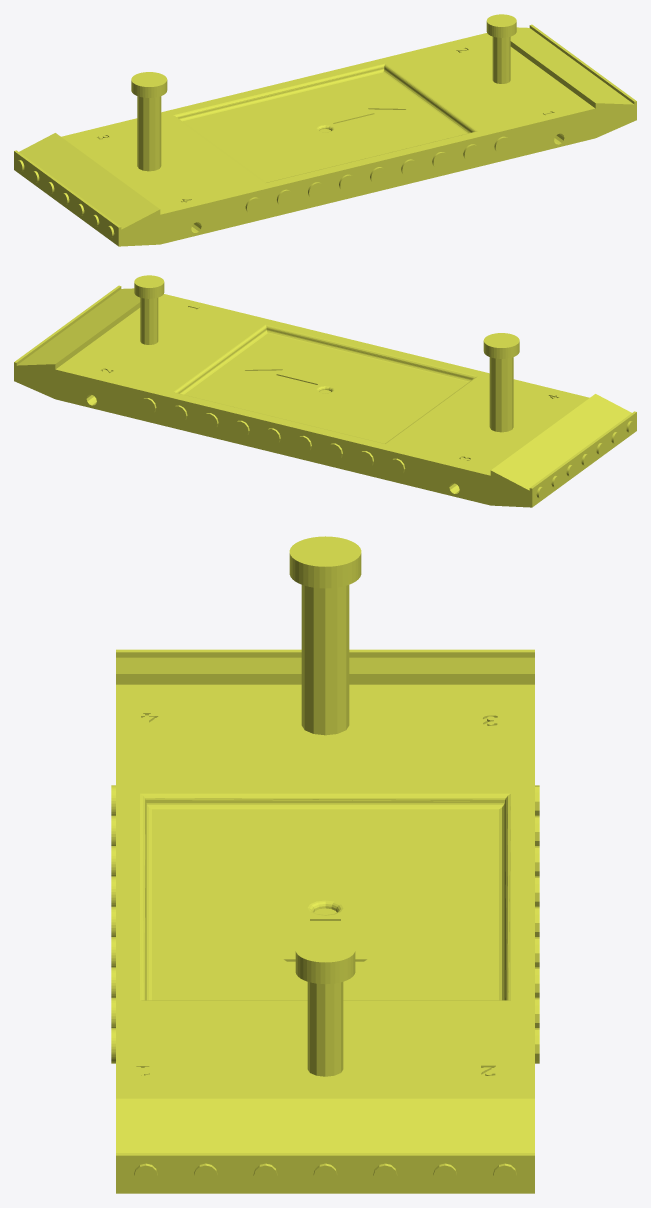
The model's file is Chassis.dae.
3 views of the same model, one above another, from view 1: azimuth 30°, elevation 25°; view 2: azimuth 150°, elevation 25°; view 3: azimuth 270°, elevation 25° (orthographic). The views are drawn at different scales.
Visible parts, largest first — view 1: Chassis; view 2: Chassis; view 3: Chassis.
Boxes of the visible parts, x1=… form: Chassis: x1=14, y1=14, x2=636, y2=246; Chassis: x1=14, y1=275, x2=636, y2=507; Chassis: x1=111, y1=536, x2=539, y2=1193.
Bounding box in the file's own units: 1.01 × 0.358 × 0.215.
